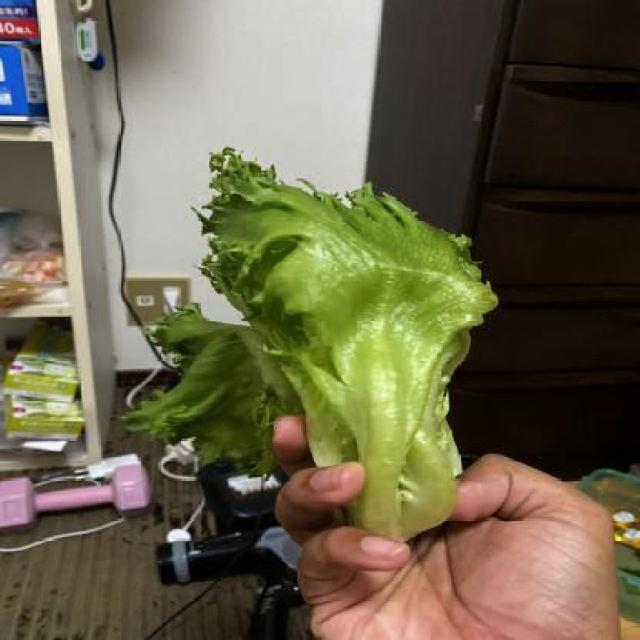Lettuce: (121, 140, 502, 544)
